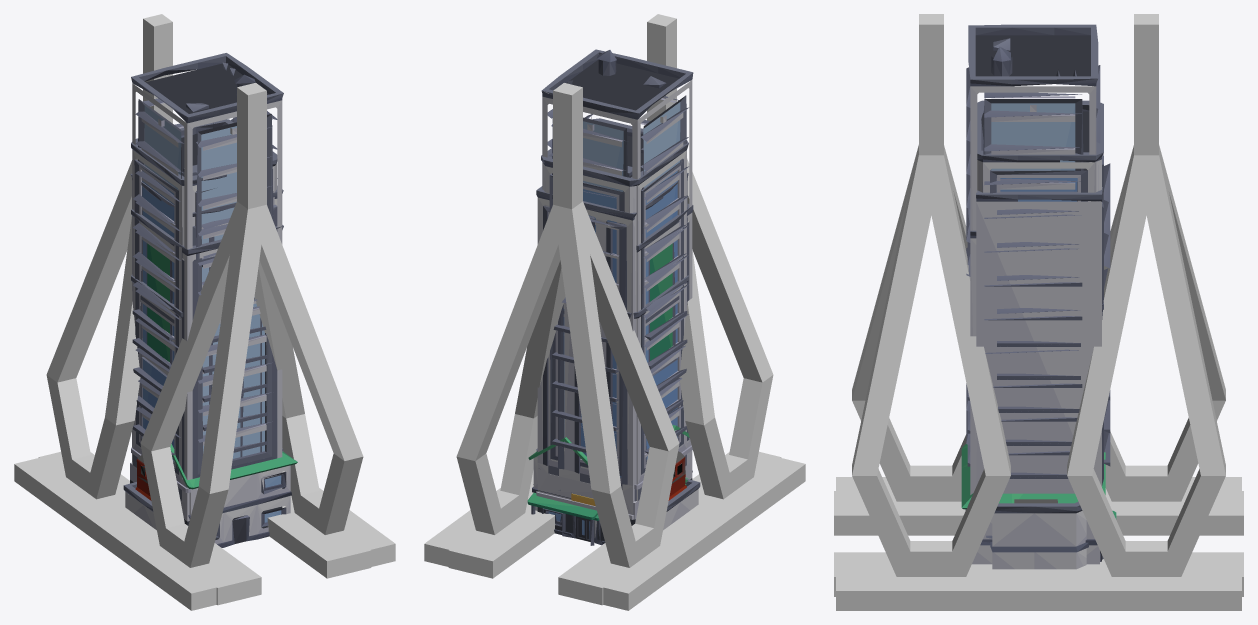
File: tiny-mumbai.glb
3 renders of one model, left to right at view 1: azimuth 30°, elevation 25°; view 2: azimuth 150°, elevation 25°; view 3: azimuth 270°, elevation 25°, orthographic. The views are drawn at different scales.
Parts seen in each view (by area): view 1: body, glass (×6), shell (×5); view 2: body (×2), glass (×5), shell (×6); view 3: body, shell (×6), glass (×6).
Part boxes in pixels (x1,y1,x2,y2): body: (14,14,395,610); glass (×6): (130,53,291,547); shell (×5): (130,62,297,543); body (×2): (424,14,805,610); glass (×5): (536,49,693,545); shell (×6): (527,59,698,542); body: (834,14,1243,610); shell (×6): (961,35,1116,569); glass (×6): (966,24,1110,559).
Size of the model in its own units: 1.03 by 2.25 by 1.56.
